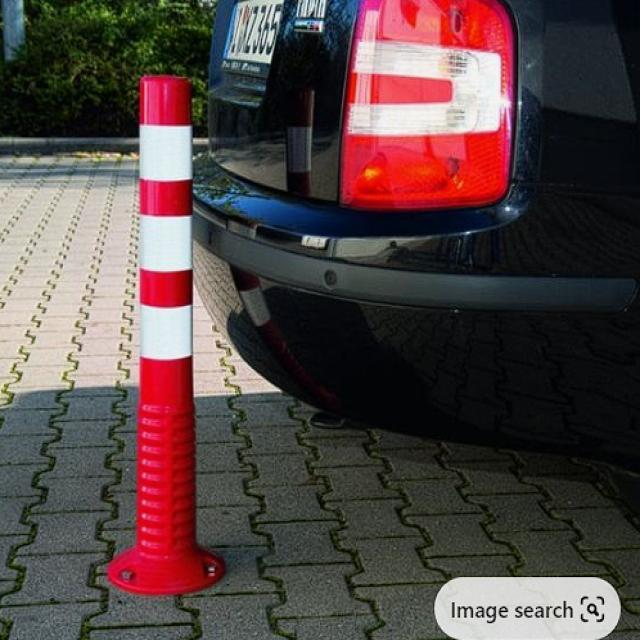Bollard: (128, 70, 201, 555)
